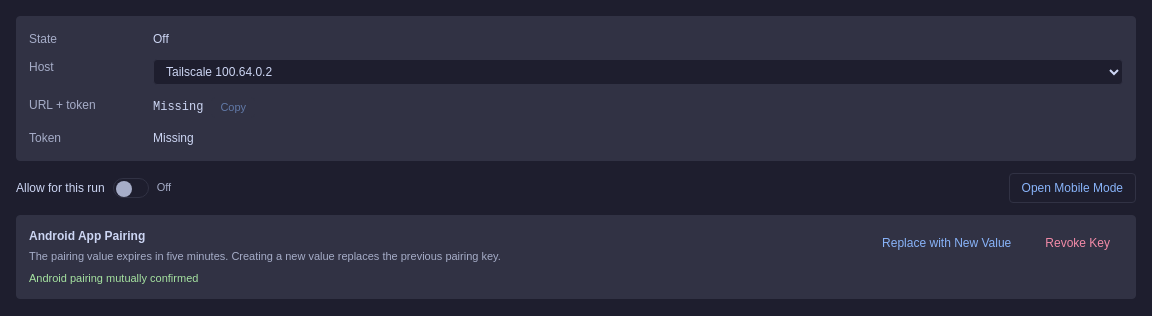
RemoteAccessModal › revokes the stored Android pairing
The width and height of the screenshot is (1152, 316).
Click the button with test id "android-pairing-revoke" at [1078, 243], box [1032,228,1123,258]
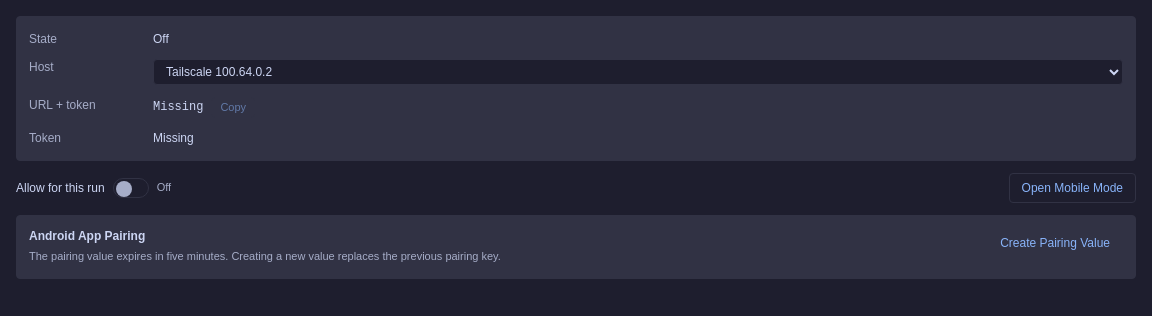
Result: the button with test id "android-pairing-revoke" is gone
